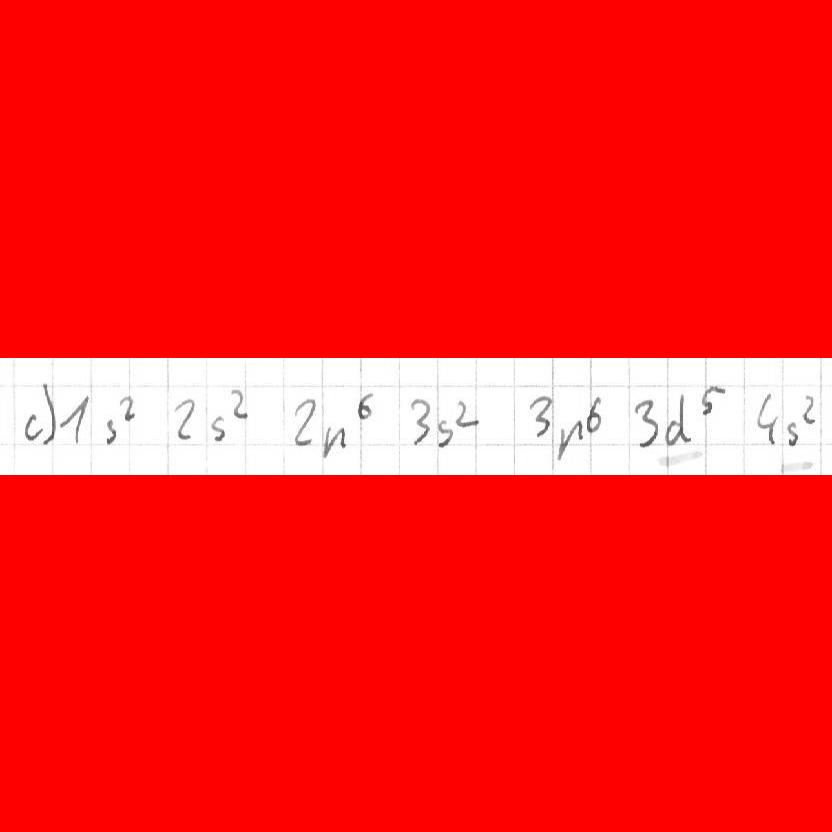Char: (665, 391, 691, 446), (59, 396, 87, 446), (528, 392, 553, 443), (632, 397, 657, 448), (292, 397, 317, 447), (755, 389, 776, 447), (408, 396, 432, 445), (557, 417, 581, 463), (40, 379, 56, 446), (173, 397, 196, 443), (320, 423, 345, 459), (699, 384, 723, 418), (585, 394, 605, 434), (453, 398, 478, 428), (23, 410, 43, 443), (229, 388, 247, 422), (435, 417, 453, 450), (355, 391, 374, 420), (801, 393, 818, 425), (210, 414, 228, 443), (118, 395, 138, 421), (785, 419, 800, 448), (104, 419, 118, 444)
